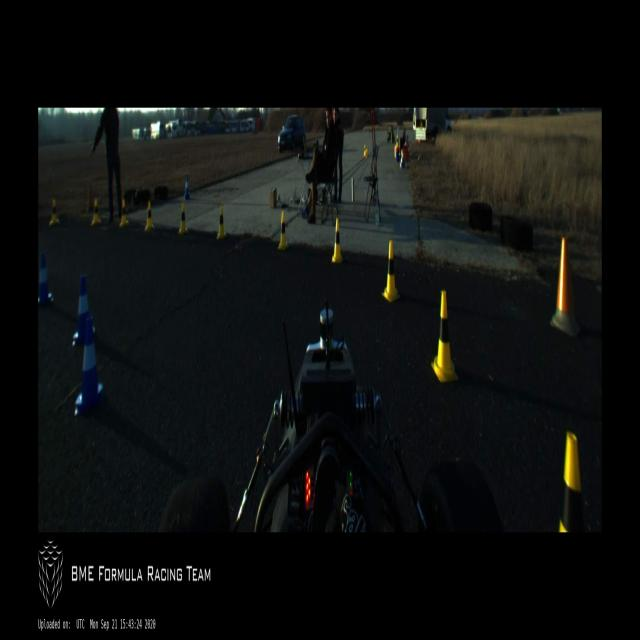blue_cone: (74, 317, 103, 416), (72, 274, 95, 344), (38, 252, 54, 307), (185, 177, 189, 200)
unknown_cone: (550, 236, 582, 340)
yellow_cone: (559, 431, 585, 532), (431, 290, 459, 382), (382, 240, 400, 303), (332, 218, 342, 263), (278, 210, 288, 250), (216, 206, 226, 239), (178, 202, 187, 235), (144, 200, 153, 232), (49, 200, 60, 226), (91, 199, 101, 226), (119, 199, 127, 228), (396, 135, 399, 148), (364, 145, 366, 156)
